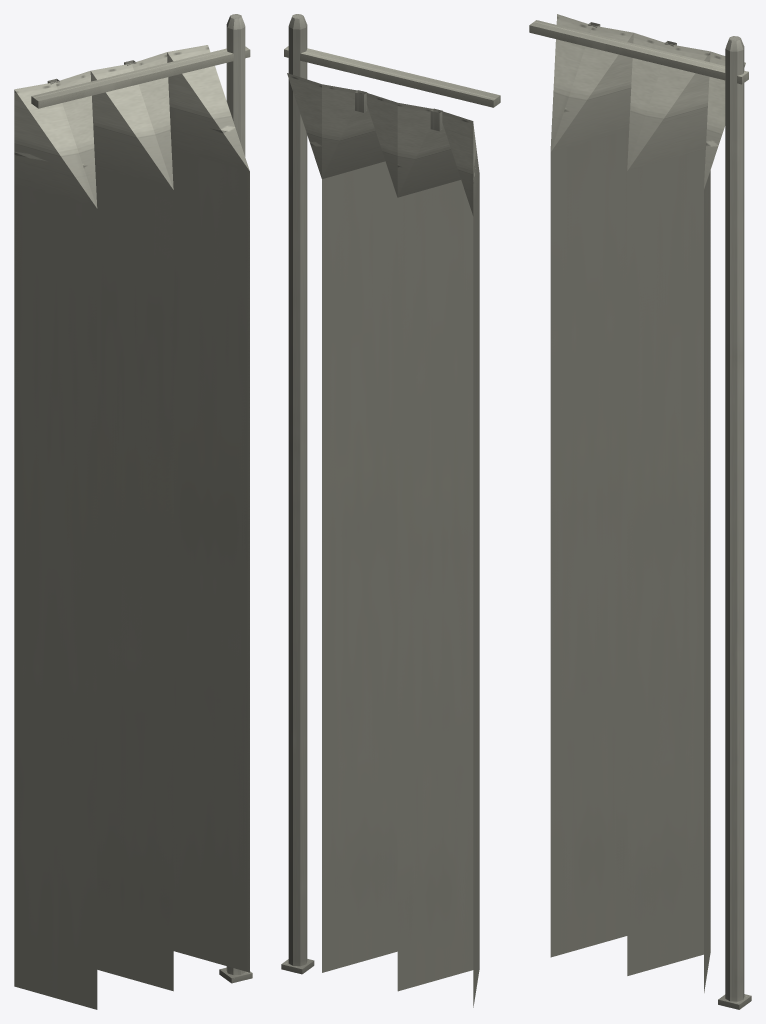
Rendered from pool_curtain_end.glb.
3 renders of one model, left to right at view 1: azimuth 30°, elevation 25°; view 2: azimuth 150°, elevation 25°; view 3: azimuth 330°, elevation 25°, orthographic.
Visible parts, largest first — view 1: core_pool_curtain_end; view 2: core_pool_curtain_end; view 3: core_pool_curtain_end.
Boxes of the visible parts, x1,y1,x2,y2 form: core_pool_curtain_end: (14,14,252,1009); core_pool_curtain_end: (281,14,500,1007); core_pool_curtain_end: (529,14,751,1009).
Size of the model in its own units: 0.6 by 2.6 by 0.221.
1 material, 1 textured.
